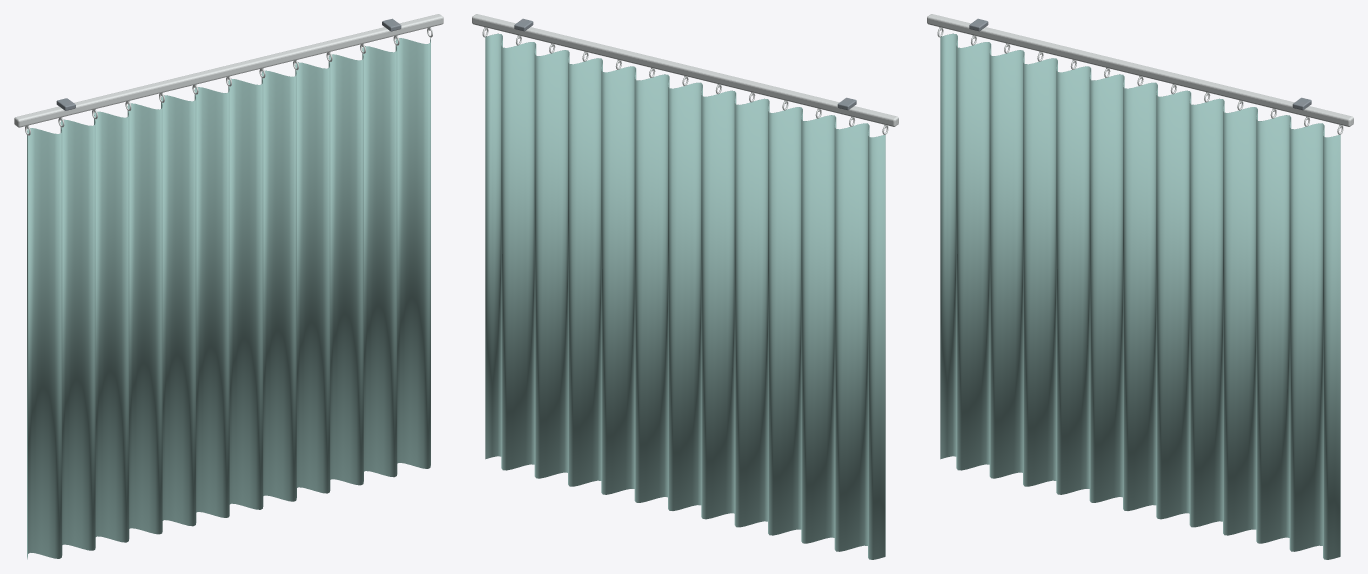
File: privacy_curtain.glb
3 views of the same model, side by side, from view 1: azimuth 30°, elevation 25°; view 2: azimuth 150°, elevation 25°; view 3: azimuth 330°, elevation 25° (orthographic).
Parts seen in each view (by area): view 1: Pleated privacy textile, Ceiling curtain track; view 2: Pleated privacy textile, Ceiling curtain track; view 3: Pleated privacy textile, Ceiling curtain track.
Part boxes in pixels (x1,y1,x2,y2): Pleated privacy textile: [27, 37, 430, 559]; Ceiling curtain track: [14, 14, 443, 135]; Pleated privacy textile: [485, 33, 885, 559]; Ceiling curtain track: [472, 14, 898, 134]; Pleated privacy textile: [940, 33, 1340, 559]; Ceiling curtain track: [927, 14, 1353, 134].
Bounding box in the file's own units: 2.33 × 2.34 × 0.1317.
3 materials, 3 textured.
